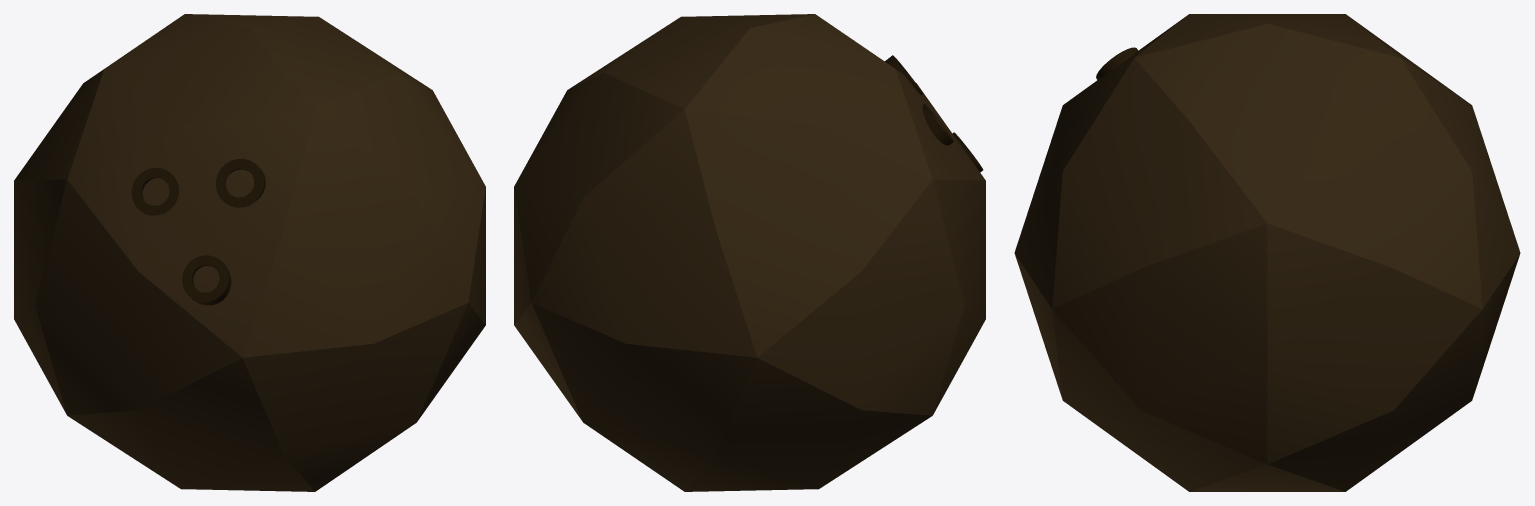
Rendered from Coconut.fbx.
The picture shows the model from 3 angles, left to right: view 1: azimuth 30°, elevation 25°; view 2: azimuth 150°, elevation 25°; view 3: azimuth 270°, elevation 25°; orthographic projection.
Visible parts, largest first — view 1: mergedBlocks; view 2: mergedBlocks; view 3: mergedBlocks.
Part boxes in pixels (x1=…): mergedBlocks: x1=14, y1=14, x2=485, y2=491; mergedBlocks: x1=514, y1=14, x2=985, y2=491; mergedBlocks: x1=1014, y1=14, x2=1520, y2=491.
Bounding box in the file's own units: 10 × 10 × 10.
